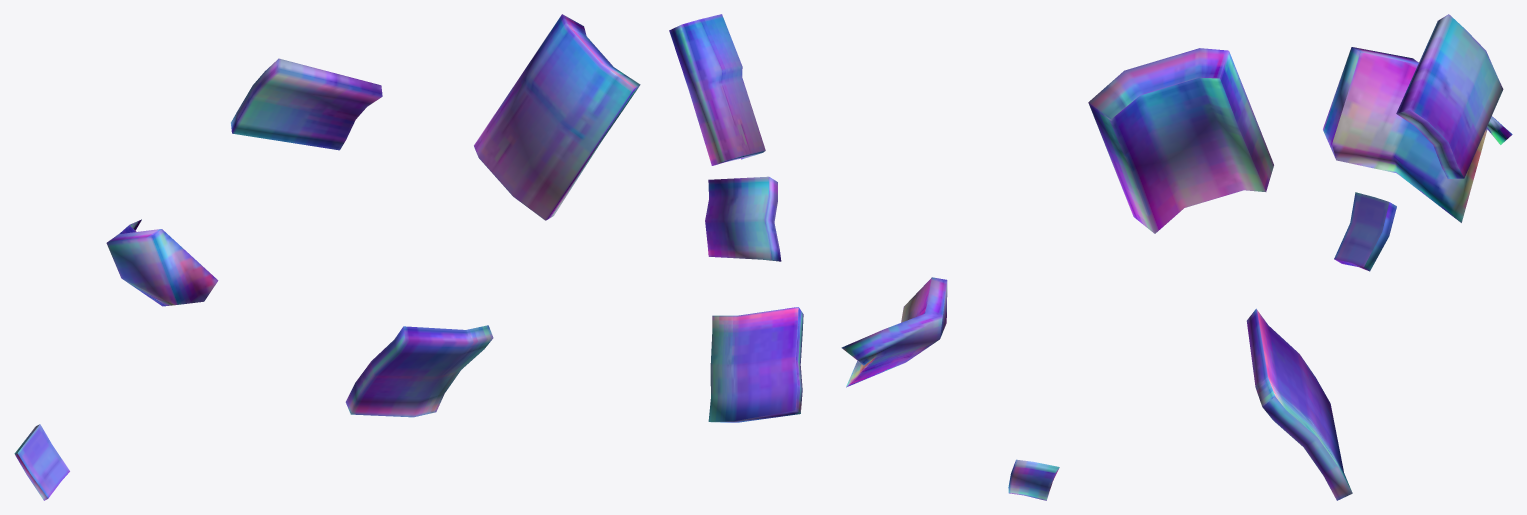
Rendered from debris_01_06.glb.
3 renders of one model, left to right at view 1: azimuth 30°, elevation 25°; view 2: azimuth 150°, elevation 25°; view 3: azimuth 270°, elevation 25°, orthographic. The views are drawn at different scales.
Visible parts, largest first — view 1: debris_01_06; view 2: debris_01_06; view 3: debris_01_06.
Part boxes in pixels (<box>): debris_01_06: <box>14,14,640,500</box>; debris_01_06: <box>669,14,1059,500</box>; debris_01_06: <box>1088,14,1512,500</box>.
Bounding box in the file's own units: 1.48 × 1.12 × 0.8614.
1 material, 1 textured.
